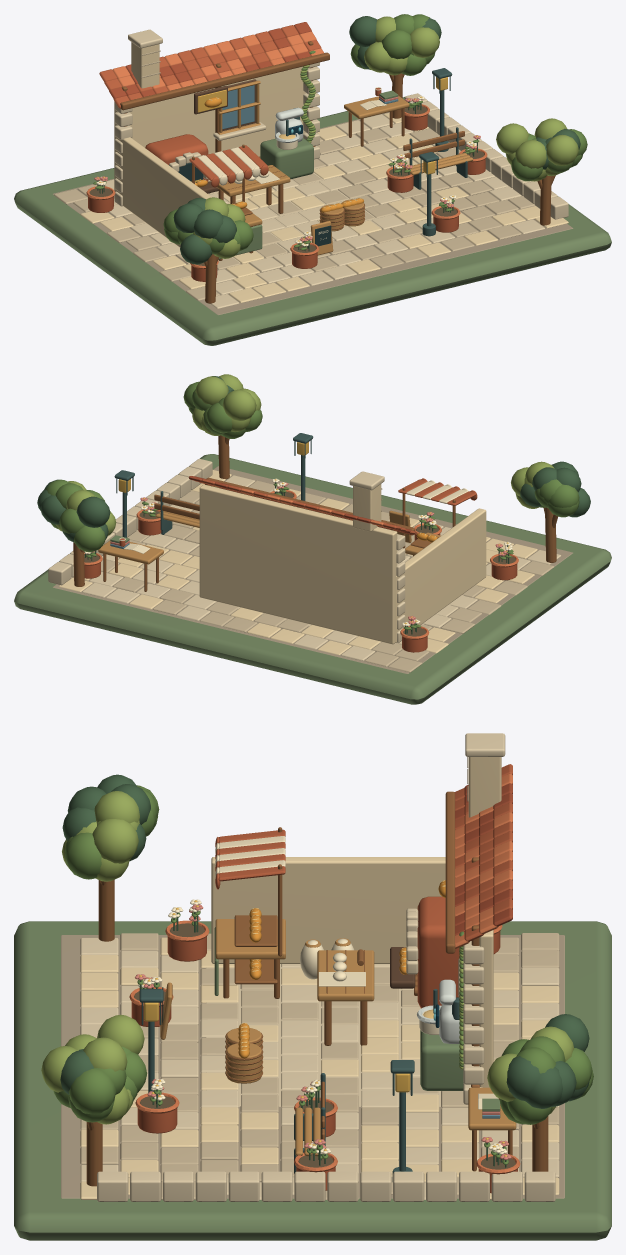
Rendered from environment.glb.
3 views of the same model, one above another, from view 1: azimuth 30°, elevation 25°; view 2: azimuth 150°, elevation 25°; view 3: azimuth 270°, elevation 25° (orthographic). The views are drawn at different scales.
Visible parts, largest first — view 1: Bakery_sage, Bakery_cream, Bakery_stoneLight, Bakery_stone, Bakery_terracotta, Bakery_leafLight, Bakery_wood, Bakery_mortar, Bakery_leaf, Bakery_green, Bakery_woodLight, Bakery_tileLight (+10 smaller); view 2: Bakery_cream, Bakery_sage, Bakery_stoneLight, Bakery_stone, Bakery_leaf, Bakery_mortar, Bakery_leafLight, Bakery_wood, Bakery_green, Bakery_terracotta, Bakery_woodLight, Bakery_tileLight (+3 smaller); view 3: Bakery_sage, Bakery_stoneLight, Bakery_cream, Bakery_stone, Bakery_terracotta, Bakery_wood, Bakery_leafLight, Bakery_leaf, Bakery_mortar, Bakery_green, Bakery_woodLight, Bakery_tileLight (+9 smaller).
Part boxes in pixels (x1,y1,x2,y2): Bakery_sage: [14, 90, 611, 345]; Bakery_cream: [80, 42, 568, 302]; Bakery_stoneLight: [103, 29, 568, 308]; Bakery_stone: [54, 50, 534, 300]; Bakery_terracotta: [88, 25, 485, 281]; Bakery_leafLight: [193, 16, 578, 258]; Bakery_wood: [120, 41, 555, 303]; Bakery_mortar: [53, 112, 573, 314]; Bakery_leaf: [93, 14, 587, 254]; Bakery_green: [97, 16, 580, 264]; Bakery_woodLight: [216, 80, 473, 255]; Bakery_tileLight: [86, 31, 487, 268]; Bakery_cream: [59, 470, 537, 654]; Bakery_sage: [14, 454, 611, 704]; Bakery_stoneLight: [48, 458, 561, 660]; Bakery_stone: [101, 480, 553, 672]; Bakery_leaf: [45, 381, 579, 629]; Bakery_mortar: [53, 466, 572, 673]; Bakery_leafLight: [56, 374, 554, 535]; Bakery_wood: [73, 435, 558, 591]; Bakery_green: [37, 376, 590, 634]; Bakery_terracotta: [84, 478, 517, 652]; Bakery_woodLight: [98, 510, 440, 564]; Bakery_tileLight: [84, 480, 518, 639]; Bakery_sage: [14, 921, 611, 1240]; Bakery_stoneLight: [80, 733, 559, 1201]; Bakery_cream: [80, 757, 559, 1199]; Bakery_stone: [80, 757, 559, 1199]; Bakery_terracotta: [131, 764, 517, 1193]; Bakery_wood: [86, 791, 548, 1186]; Bakery_leafLight: [41, 791, 574, 1124]; Bakery_leaf: [53, 785, 593, 1164]; Bakery_mortar: [61, 935, 564, 1198]; Bakery_green: [60, 774, 589, 1167]; Bakery_woodLight: [160, 919, 516, 1156]; Bakery_tileLight: [129, 773, 520, 1174].
Size of the model in its own units: 12.04 by 5.01 by 10.
